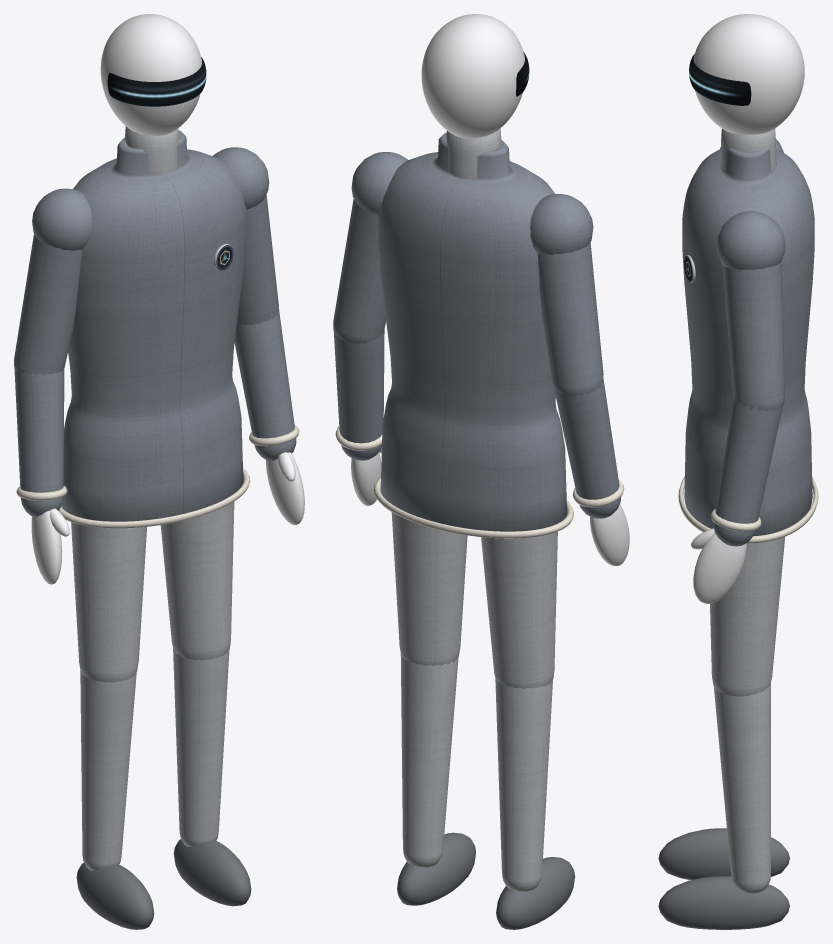
File: specialist.glb
3 renders of one model, left to right at view 1: azimuth 30°, elevation 25°; view 2: azimuth 150°, elevation 25°; view 3: azimuth 270°, elevation 25°, orthographic.
Parts seen in each view (by area): view 1: Avatar · Specialist; view 2: Avatar · Specialist; view 3: Avatar · Specialist.
Part boxes in pixels (x1,y1,x2,y2): Avatar · Specialist: (14, 14, 304, 929); Avatar · Specialist: (333, 14, 629, 929); Avatar · Specialist: (658, 14, 818, 929).
Bounding box in the file's own units: 0.5976 × 1.8 × 0.2969.
Materials: 7 (4 with a texture image).
